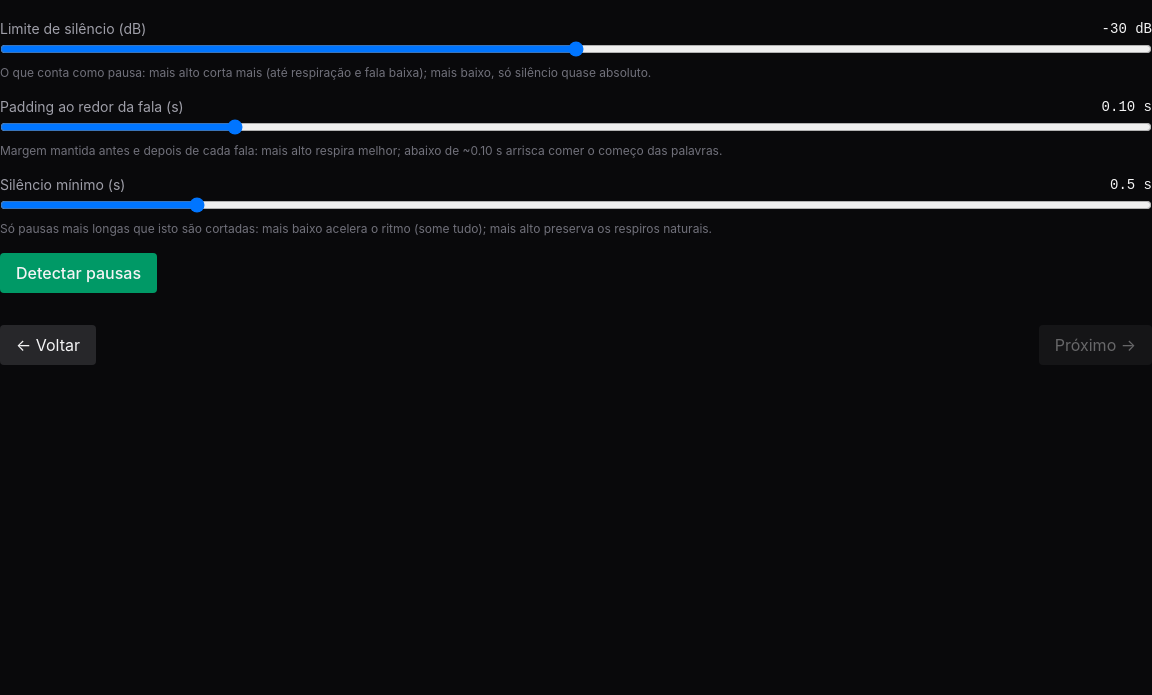
CutsStep manual cut › marca um trecho a remover (início + fim) e lista
Click the button "Detectar pausas" at (78, 273), box [0,253,157,293]
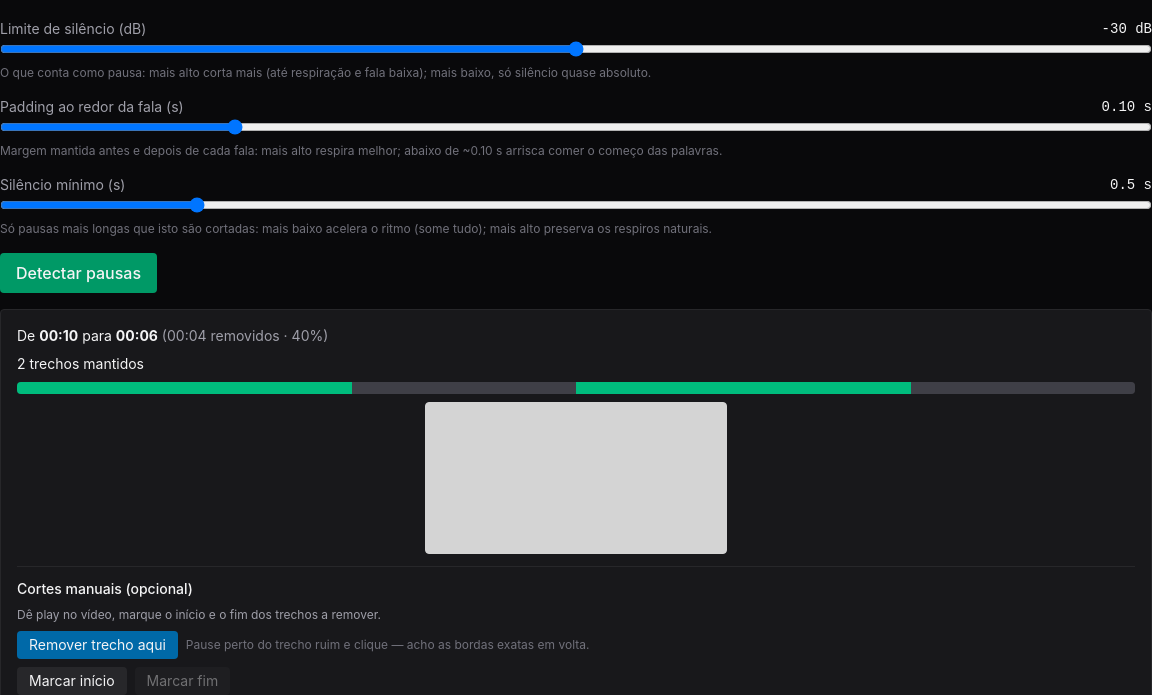
Expected: the text "2 trechos mantidos" is shown, [17,355,144,372]
Click the button "Marcar início" at (72, 681), box [17,667,127,694]
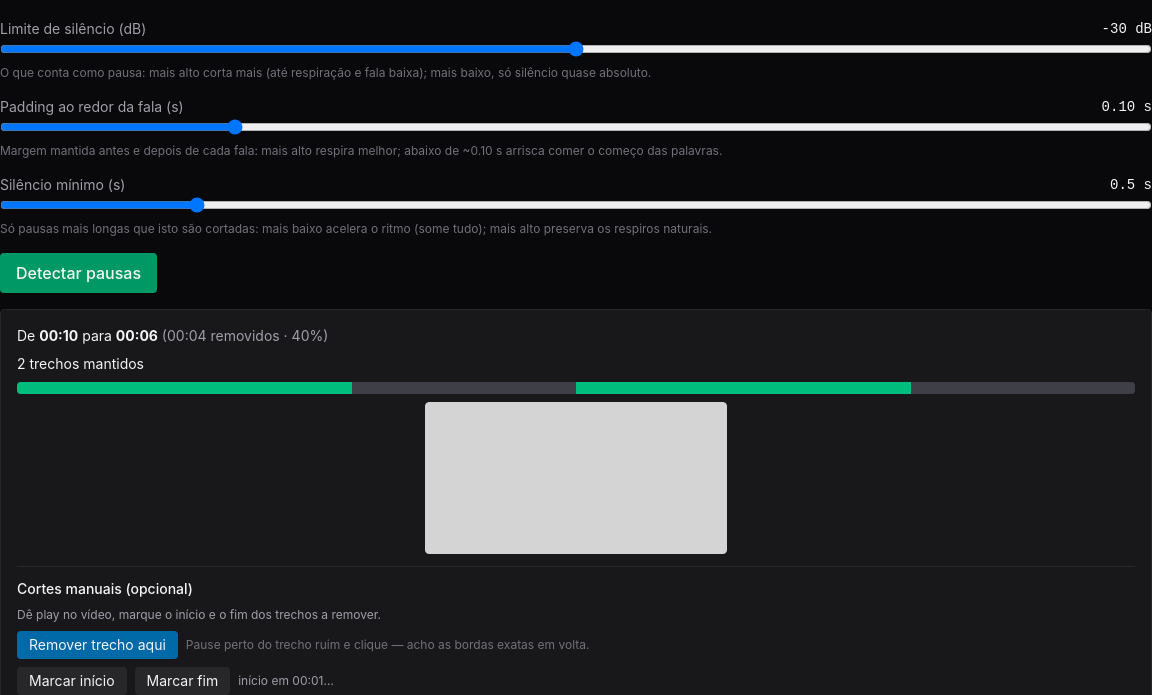
Click the button "Marcar fim" at (182, 681), box [135,667,230,694]
(page scrolled)
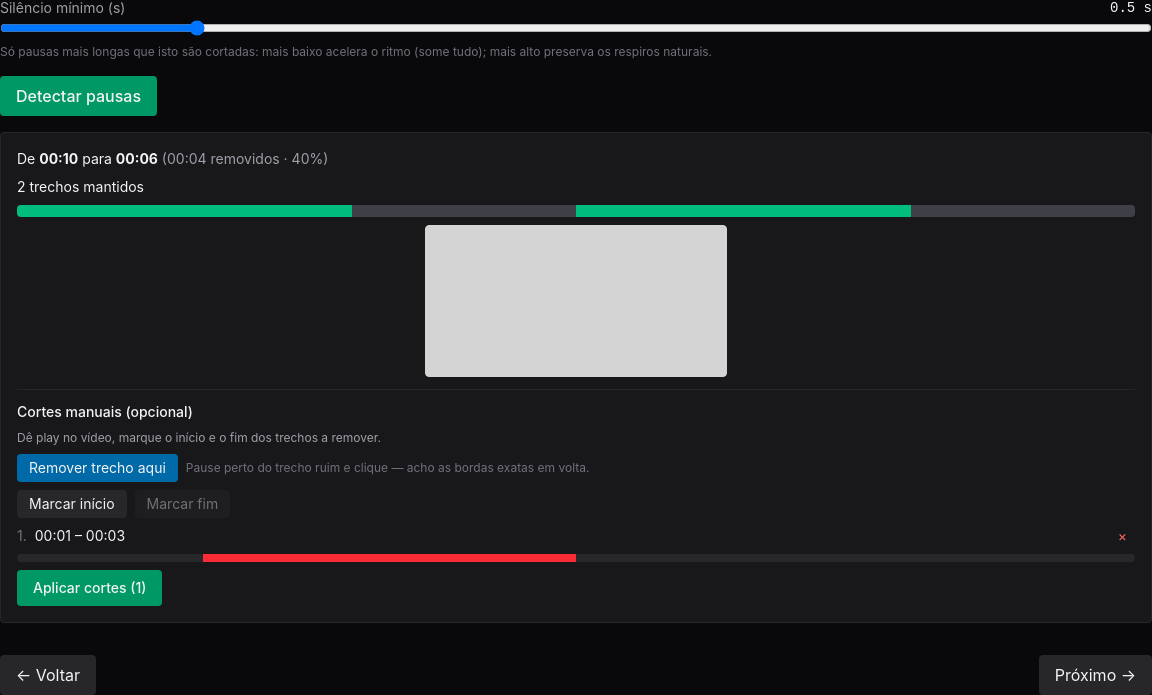
Expected: the button named "remover trecho 1" is shown, [1110,526,1135,546]
